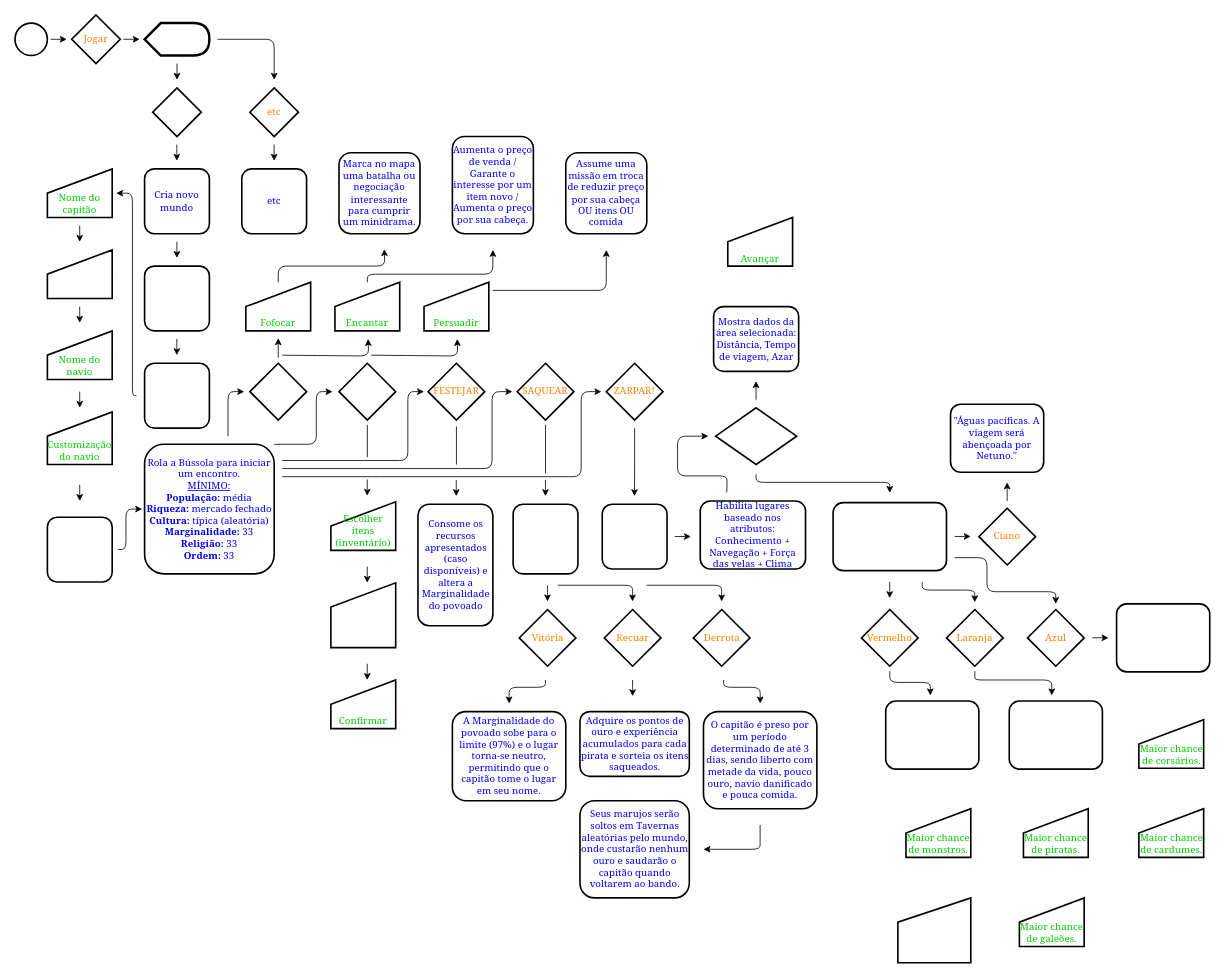
Image size: 1224x977. Some labels were removed from this diagram. The centre of each missing label's shape, as x and y in pixels:
"Mar revolto. Devemos nos manter em alerta todo o tempo.": point 1055,735
"Tormenta. A ira de Njörd nos persegue tempestade adentro.": point 932,735
"Águas agitadas. A viagem será boa, porém teremos que ajustar a rota.": point 1162,637
Abre o mapa-múndi e ilumina os arredores do seu navio: point 634,536
Calcula o Azar da região baseando-se na reputação de seu bando.: point 889,536
COMEÇA O JOGO!: point 79,549
Começa uma batalha contra o povo naval da região: point 545,538
Conteúdo: point 176,38
Escolher itens (depósito da vila): point 363,615
Início: point 31,39
Maior chance de Embarcações Fantasmas.: point 934,930
MISTÉRIO: point 278,391
NEGOCIAR: point 367,391
Nome do bando: point 79,274
Novo: point 176,112
Randomiza atributos do capitão: point 176,298
Randomiza atributos e quantidade de tripulantes: point 176,395
SELECIONAR: point 755,436
